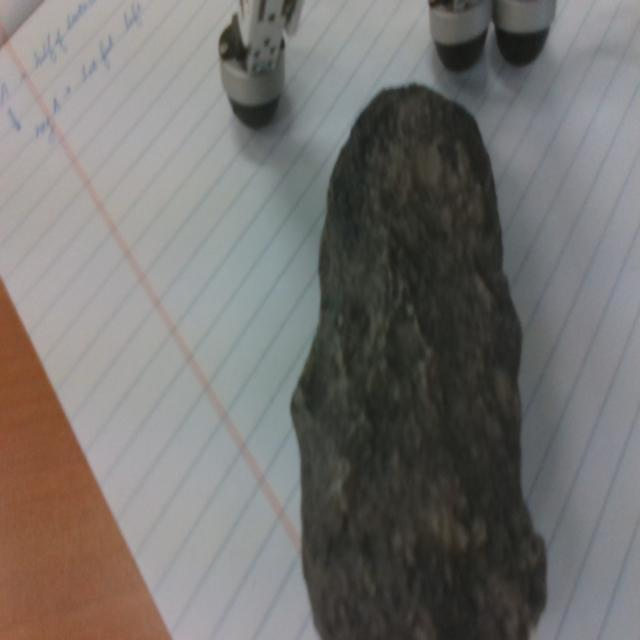stone: (289, 85, 549, 640)
